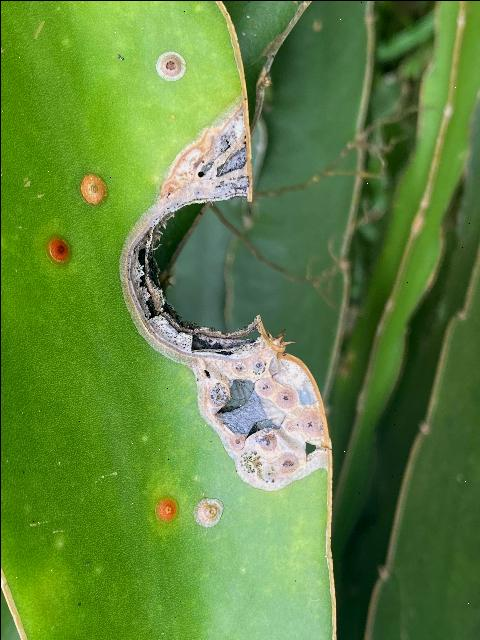stemcanker: (114, 96, 333, 494)
